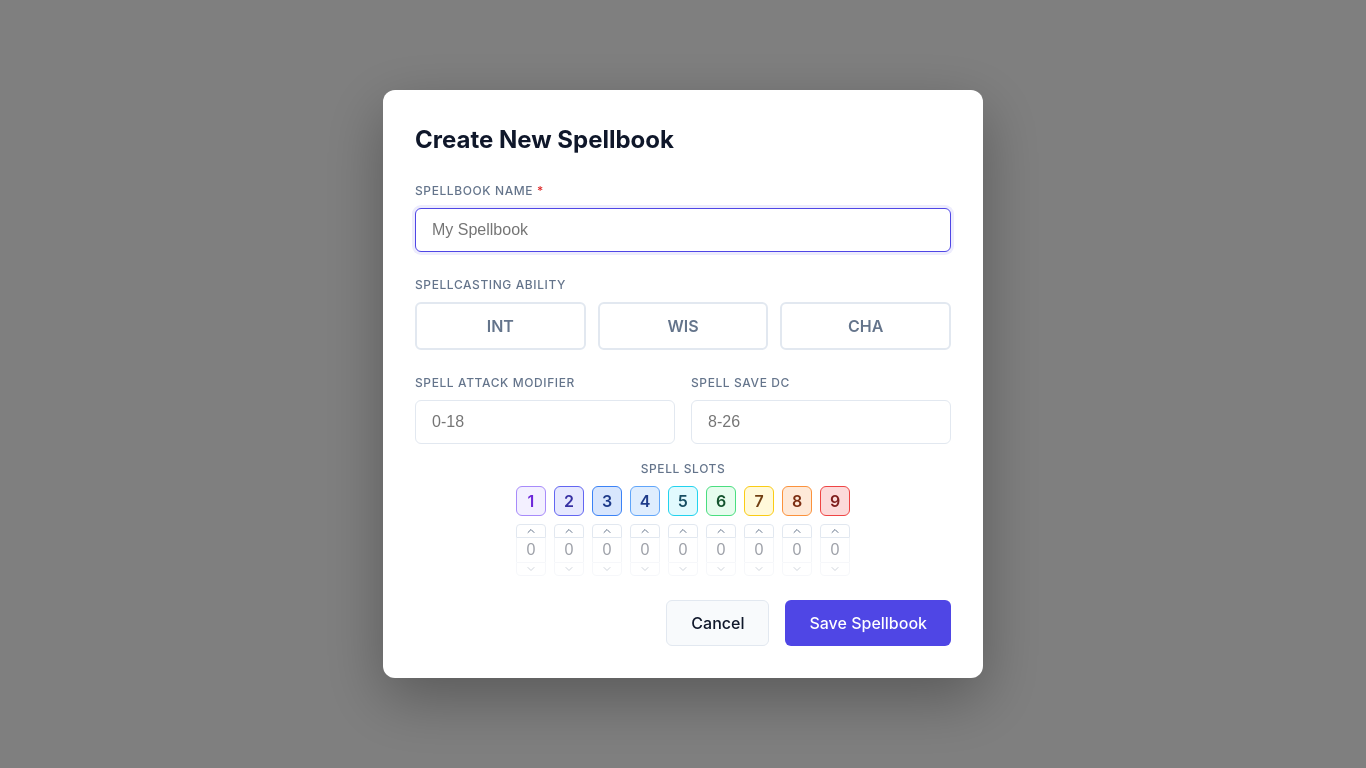
Test: CreateSpellbookModal › should validate duplicate name
The image size is (1366, 768).
In the field with test id "spellbook-name-input": [683, 230] box [415,208,951,252], type "Existing Book"
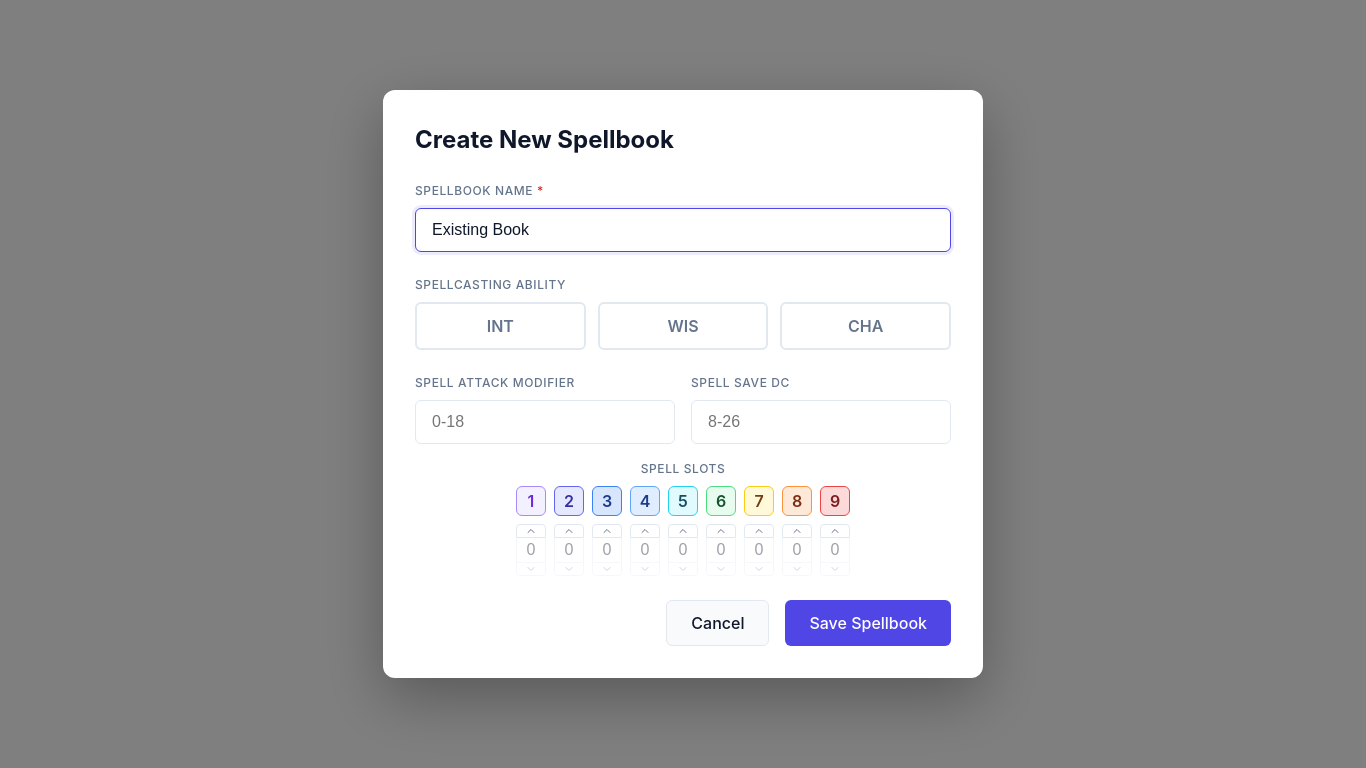
Click the button with test id "create-button": [868, 623] box [785,600,951,646]
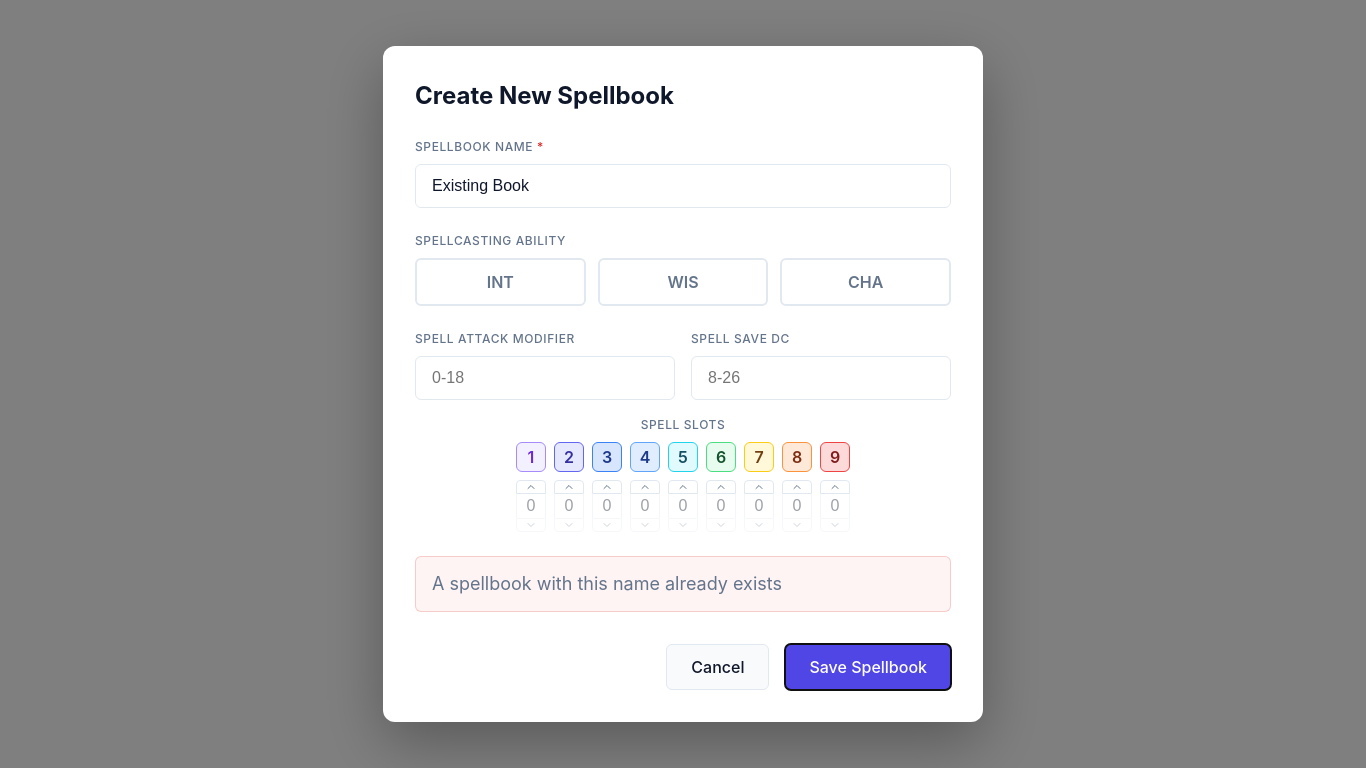
Expected: the text "A spellbook with this name already exists" is shown, [415,556,951,612]
